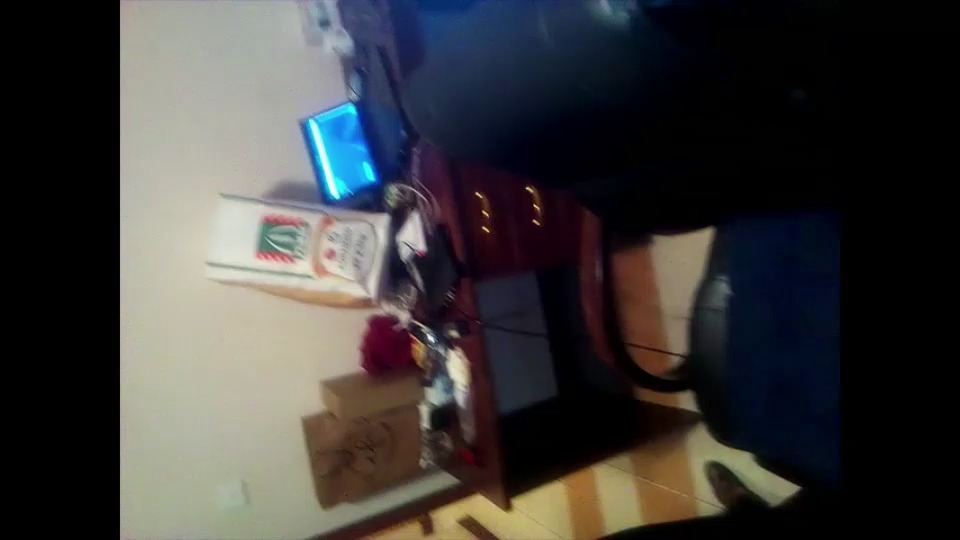maize_flour_green_label: (205, 197, 381, 307)
